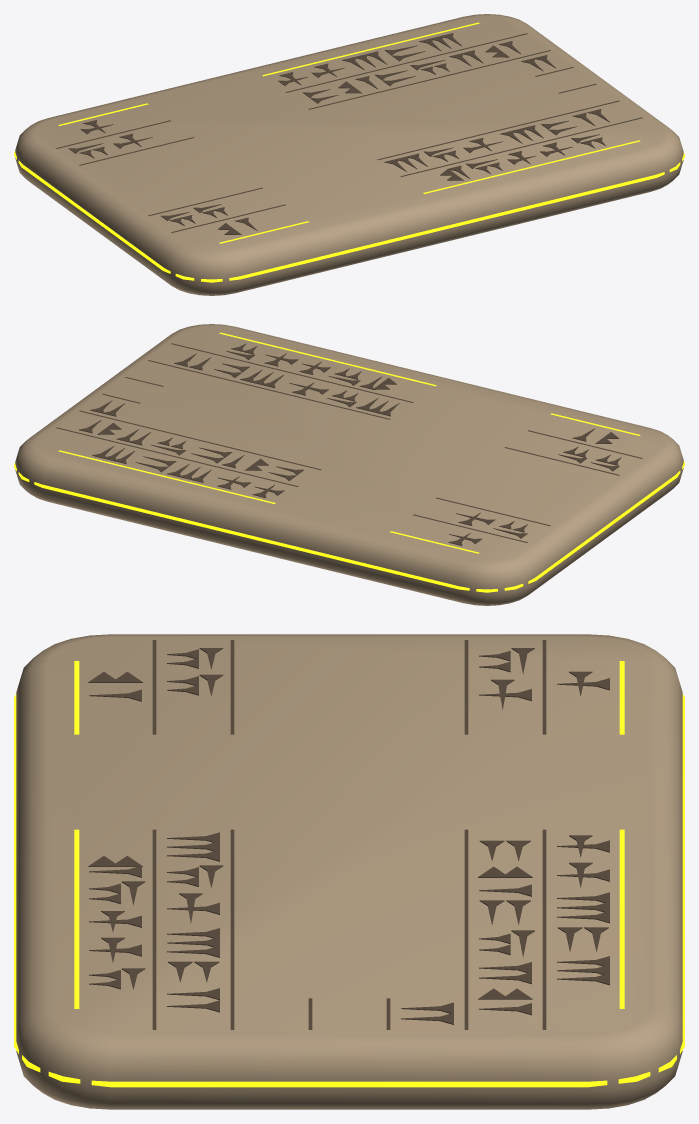
File: data_clay_tablet.glb
3 renders of one model, top to bottom at view 1: azimuth 30°, elevation 25°; view 2: azimuth 150°, elevation 25°; view 3: azimuth 270°, elevation 25°, orthographic. The views are drawn at different scales.
Visible parts, largest first — view 1: Koerper, Kerbe, Saum, Kern; view 2: Koerper, Kerbe, Saum, Kern; view 3: Koerper, Kerbe, Saum, Kern.
Boxes of the visible parts, x1,y1,x2,y2 form: Koerper: [15, 14, 683, 295]; Kerbe: [56, 33, 642, 234]; Saum: [14, 151, 684, 282]; Kern: [58, 22, 640, 243]; Koerper: [15, 324, 683, 605]; Kerbe: [56, 343, 642, 545]; Saum: [14, 461, 684, 592]; Kern: [58, 332, 640, 553]; Koerper: [16, 634, 682, 1109]; Kerbe: [88, 640, 609, 1029]; Saum: [14, 694, 684, 1087]; Kern: [74, 661, 624, 1008].
Size of the model in its own units: 1.62 by 0.1295 by 1.08.
